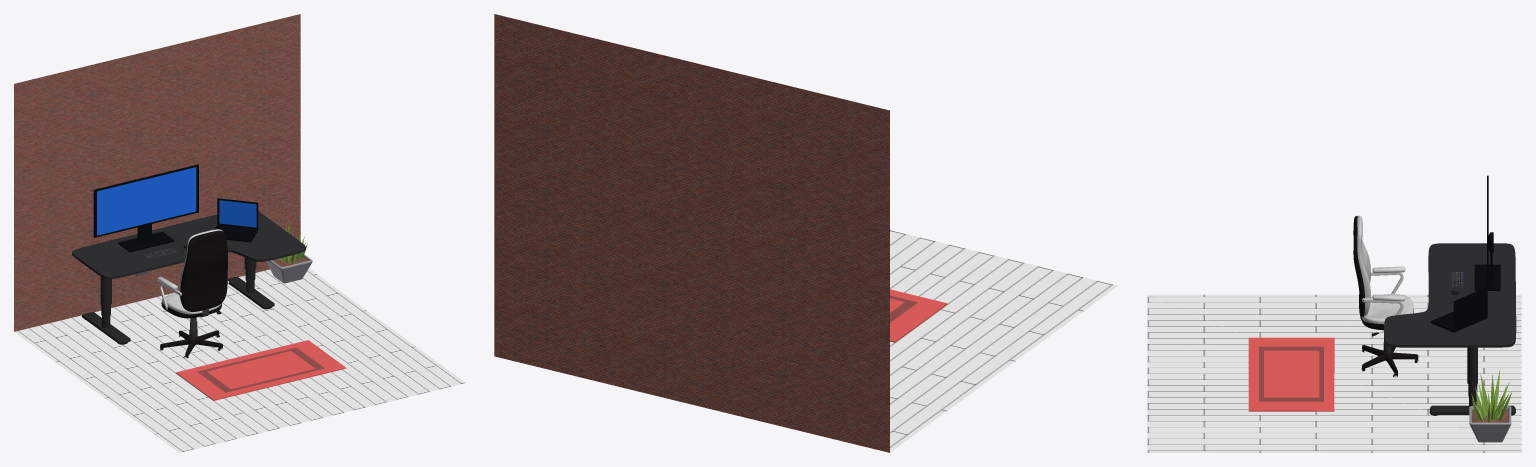
File: new_workspace-transformed.glb
3 renders of one model, left to right at view 1: azimuth 30°, elevation 25°; view 2: azimuth 150°, elevation 25°; view 3: azimuth 270°, elevation 25°, orthographic. The views are drawn at different scales.
Visible parts, largest first — view 1: Plane, desk, Office chair; view 2: Plane, desk; view 3: Plane, desk, Office chair.
Boxes of the visible parts, left/top/right/bottom form: Plane: left=14, top=14, right=465, bottom=452; desk: left=72, top=164, right=346, bottom=400; Office chair: left=157, top=229, right=228, bottom=358; Plane: left=494, top=14, right=1118, bottom=452; desk: left=890, top=289, right=947, bottom=342; Plane: left=1147, top=294, right=1521, bottom=452; desk: left=1248, top=175, right=1516, bottom=442; Office chair: left=1353, top=215, right=1418, bottom=377.
Bounding box in the file's own units: 4.01 × 3.36 × 4.01.
Materials: 7 (7 with a texture image).
